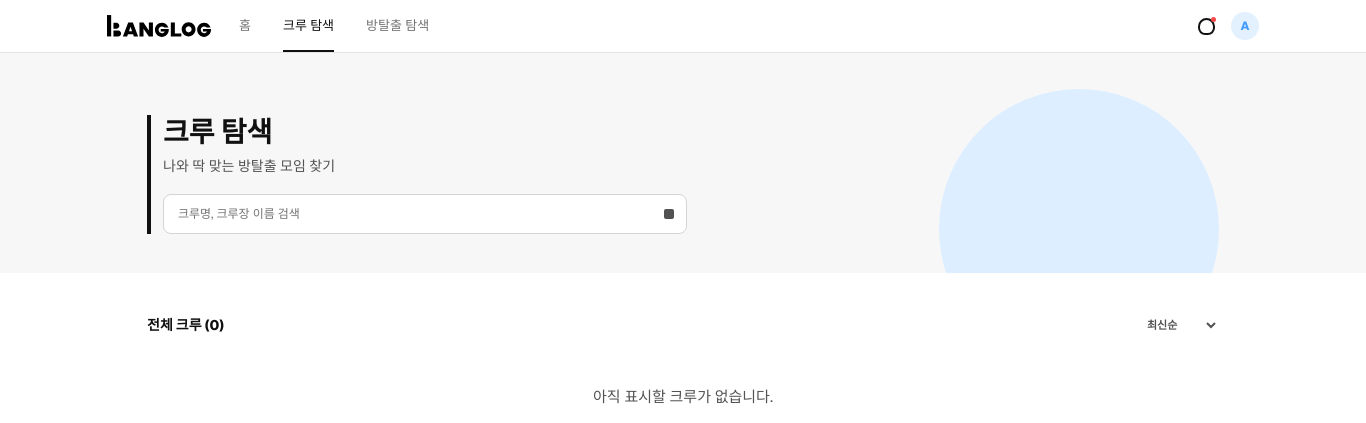
PublicCrewsPage › distinguishes empty list and empty search result states
Check: the text "아직 표시할 크루가 없습니다." is shown, box [593,387,773,406]
Type "없는크루" into the search field named "크루 검색".
click(413, 214); type("없는크루")  # box [176,205,650,223]
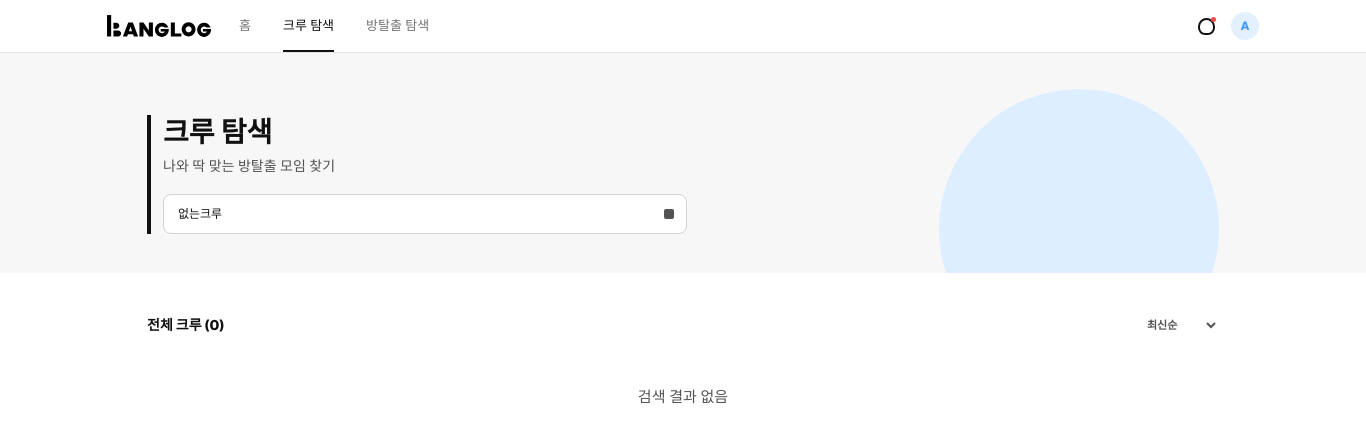
Check: the text "검색 결과 없음" is shown, box [638,387,728,406]
